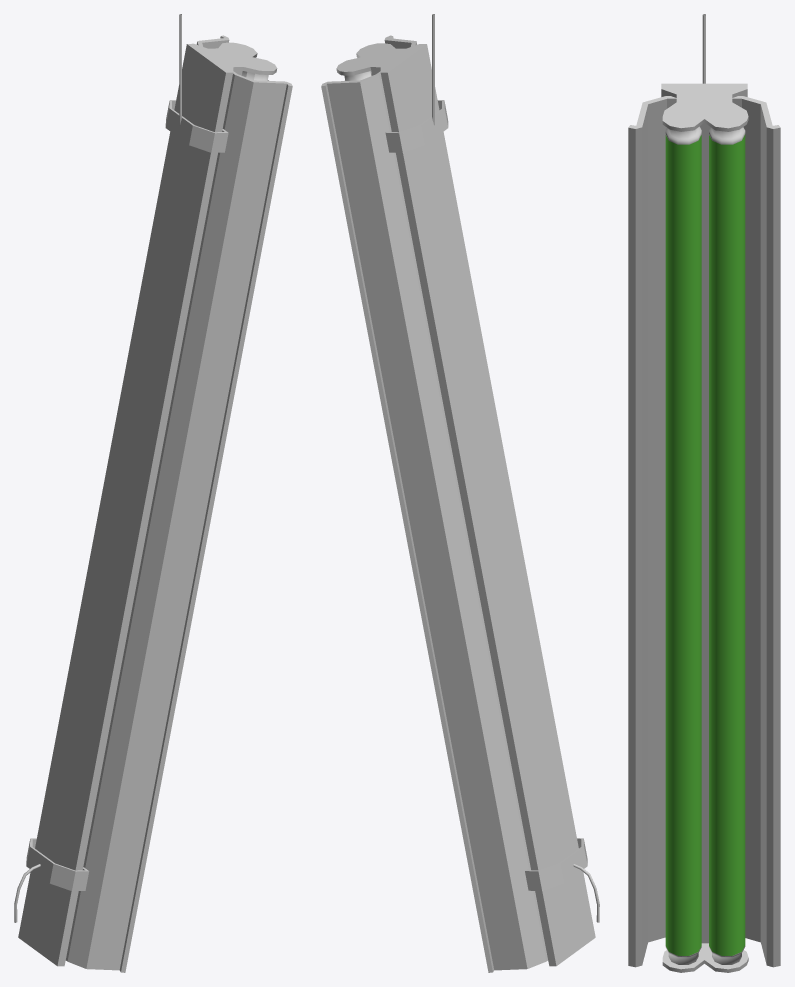
File: Lamp_2.fbx
3 views of the same model, side by side, from view 1: azimuth 30°, elevation 25°; view 2: azimuth 150°, elevation 25°; view 3: azimuth 270°, elevation 25° (orthographic). The views are drawn at different scales.
Parts seen in each view (by area): view 1: Lamp.003; view 2: Lamp.003; view 3: Lamp.003.
Boxes of the visible parts, x1,y1,x2,y2 form: Lamp.003: (14,14,292,972); Lamp.003: (321,14,599,972); Lamp.003: (628,14,780,972).
Bounding box in the file's own units: 0.5422 × 1.9 × 0.2604.
